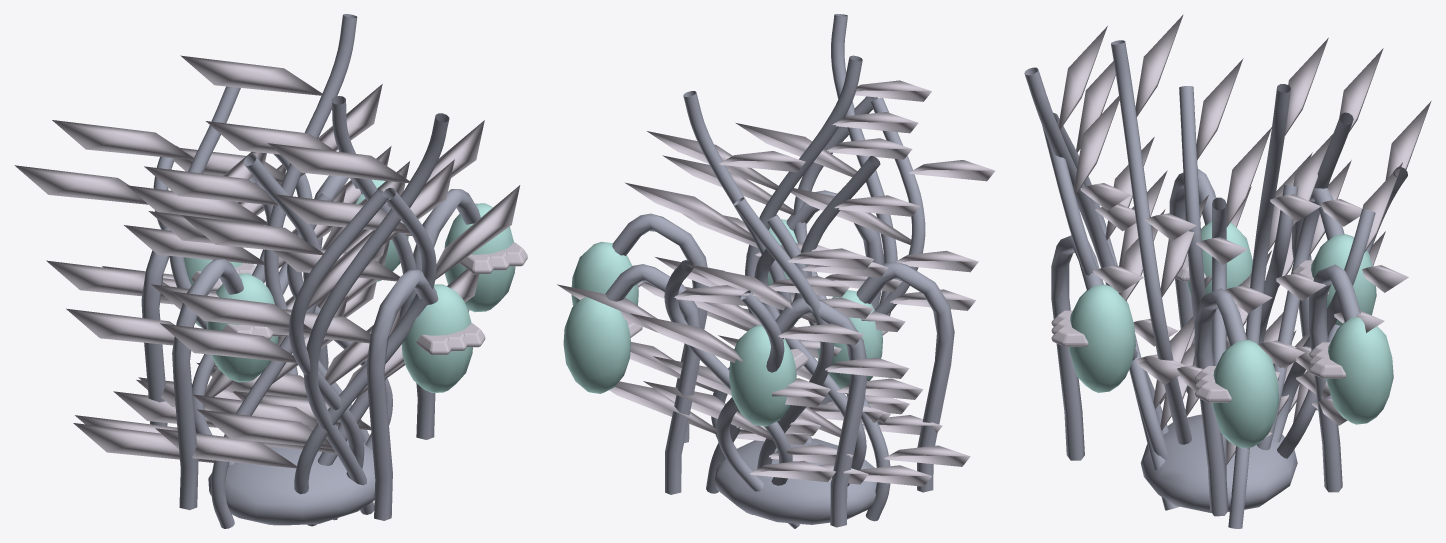
File: bio_aquatic_frond_23_far.glb
The picture shows the model from 3 angles, left to right: view 1: azimuth 30°, elevation 25°; view 2: azimuth 150°, elevation 25°; view 3: azimuth 270°, elevation 25°; orthographic projection. The views are drawn at different scales.
Parts seen in each view (by area): view 1: Ruffled aquatic blade.010, Holdfast, Ruffled aquatic blade.050, Ruffled aquatic blade.040, Ruffled aquatic blade.035, Ruffled aquatic blade.025, Ruffled aquatic blade.020, Ruffled aquatic blade.045, Flexible stipe.002, Ruffled aquatic blade.005, Arched fruit stem.002, Arched fruit stem.004 (+20 smaller); view 2: Ruffled aquatic blade.030, Holdfast, Ruffled aquatic blade.005, Pendant spore capsule.003, Arched fruit stem.004, Pendant spore capsule.001, Ruffled aquatic blade.010, Ruffled aquatic blade.045, Arched fruit stem.001, Ruffled aquatic blade.015, Ruffled aquatic blade.040, Arched fruit stem.003 (+20 smaller); view 3: Holdfast, Flexible stipe.005, Pendant spore capsule, Pendant spore capsule.002, Pendant spore capsule.003, Flexible stipe.008, Arched fruit stem, Ruffled aquatic blade.010, Ruffled aquatic blade.025, Arched fruit stem.003, Ruffled aquatic blade.035, Arched fruit stem.002 (+24 smaller).
Boxes of the visible parts, x1,y1,x2,y2 form: Ruffled aquatic blade.010: (170, 143, 454, 448); Holdfast: (208, 440, 375, 525); Ruffled aquatic blade.050: (155, 185, 520, 468); Ruffled aquatic blade.040: (124, 55, 389, 401); Ruffled aquatic blade.035: (160, 215, 404, 453); Ruffled aquatic blade.025: (192, 120, 484, 427); Ruffled aquatic blade.020: (73, 161, 409, 462); Ruffled aquatic blade.045: (66, 185, 346, 433); Flexible stipe.002: (303, 113, 449, 514); Ruffled aquatic blade.005: (46, 120, 295, 410); Arched fruit stem.002: (366, 269, 438, 520); Arched fruit stem.004: (172, 259, 243, 510); Ruffled aquatic blade.030: (609, 313, 863, 482); Holdfast: (714, 438, 876, 524); Ruffled aquatic blade.005: (653, 248, 909, 463); Pendant spore capsule.003: (563, 293, 630, 393); Arched fruit stem.004: (856, 261, 954, 492); Pendant spore capsule.001: (729, 325, 796, 426); Ruffled aquatic blade.010: (736, 80, 978, 414); Ruffled aquatic blade.045: (685, 276, 931, 486); Arched fruit stem.001: (775, 297, 867, 527); Ruffled aquatic blade.015: (557, 284, 868, 484); Ruffled aquatic blade.040: (625, 151, 873, 435); Arched fruit stem.003: (605, 264, 701, 494); Holdfast: (1140, 414, 1297, 512); Flexible stipe.005: (1111, 40, 1191, 444); Pendant spore capsule: (1212, 340, 1279, 448); Pendant spore capsule.002: (1068, 284, 1135, 392); Pendant spore capsule.003: (1326, 317, 1393, 424); Flexible stipe.008: (1228, 84, 1290, 528); Arched fruit stem: (1194, 288, 1247, 516); Ruffled aquatic blade.010: (1058, 26, 1194, 408); Ruffled aquatic blade.025: (1135, 14, 1208, 415); Arched fruit stem.003: (1309, 264, 1360, 492); Ruffled aquatic blade.035: (1076, 61, 1194, 430); Arched fruit stem.002: (1051, 235, 1103, 460).
Size of the model in its own units: 1.89 by 1.89 by 1.56.
